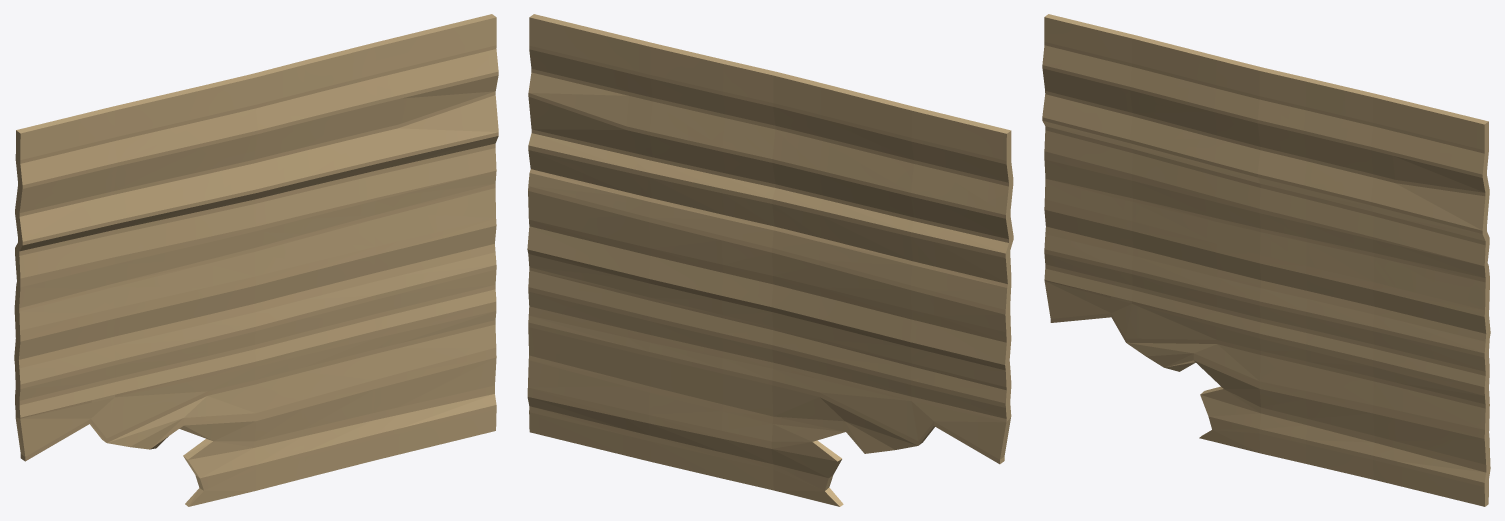
Rendered from garage_door_B.obj.
3 renders of one model, left to right at view 1: azimuth 30°, elevation 25°; view 2: azimuth 150°, elevation 25°; view 3: azimuth 330°, elevation 25°, orthographic. The views are drawn at different scales.
Visible parts, largest first — view 1: garage_door_B_Mesh; view 2: garage_door_B_Mesh; view 3: garage_door_B_Mesh.
Boxes of the visible parts, x1=… form: garage_door_B_Mesh: x1=14, y1=14, x2=498, y2=506; garage_door_B_Mesh: x1=527, y1=14, x2=1013, y2=506; garage_door_B_Mesh: x1=1042, y1=14, x2=1490, y2=506.
Bounding box in the file's own units: 2.91 × 2.42 × 0.1071.
